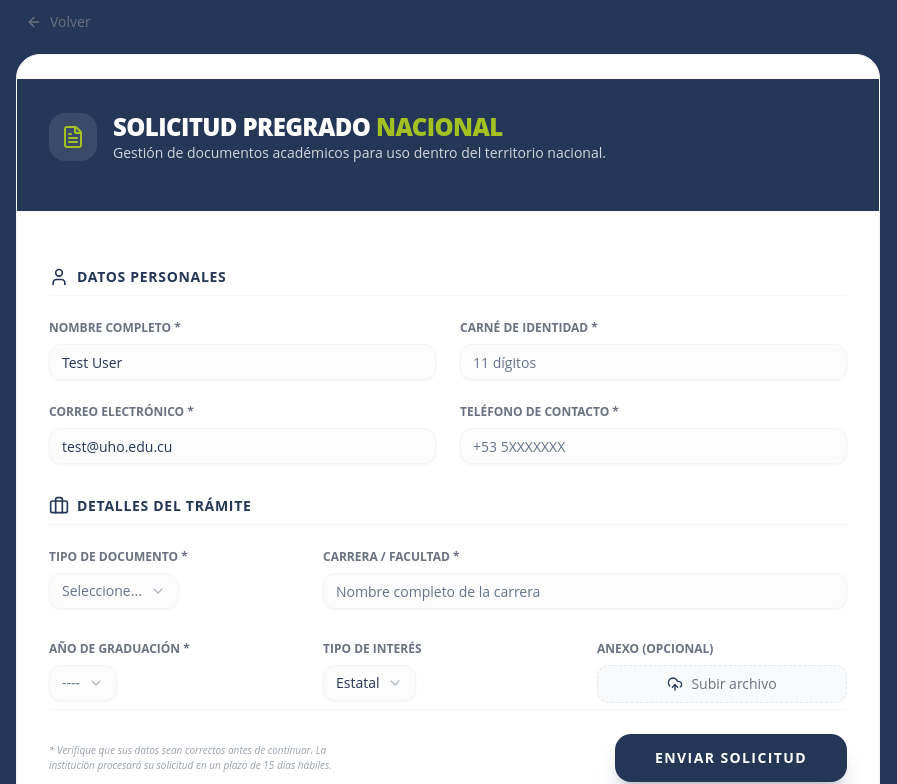
Test: UnderNatProcedure validación común › exige carrera/programa
This screenshot has width=897, height=784.
In the field labelled "Carné de Identidad *": (654, 362) [460,344,847,380], type "02050512345"
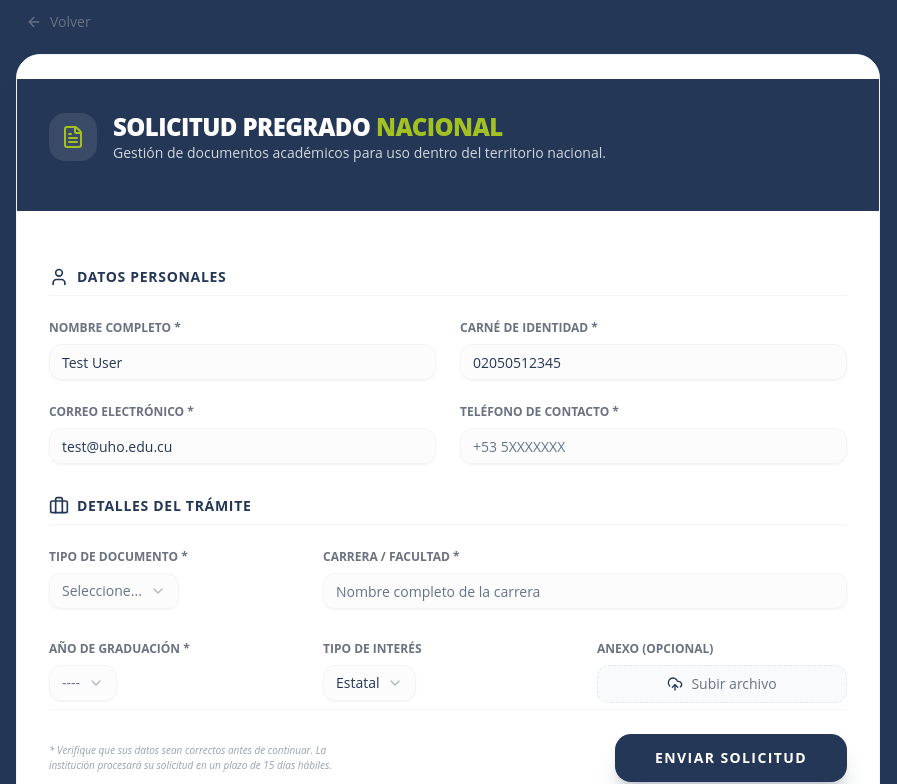
# No tocar el campo de carrera/programa
Click the button "Enviar Solicitud": (731, 758) [615,734,847,782]
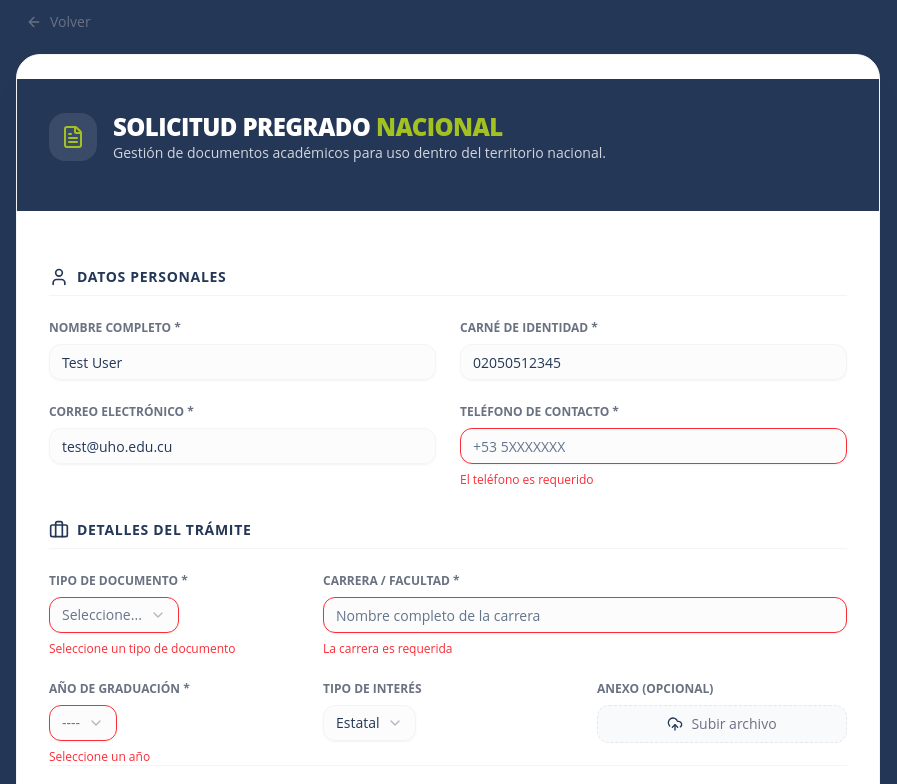
Check: the text "La carrera es requerida" is shown, box [323,640,452,657]
